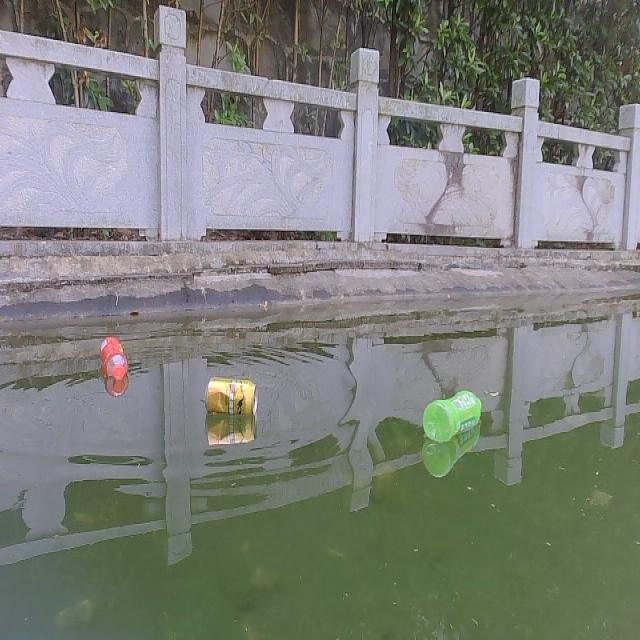bottle: (422, 385, 483, 443), (98, 334, 129, 382)
can: (203, 375, 257, 417)
